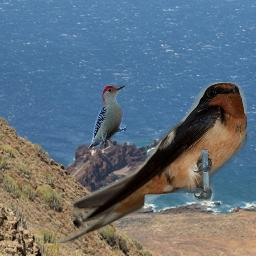Swallow: (50, 82, 247, 243)
Woodpecker: (87, 84, 127, 151)
